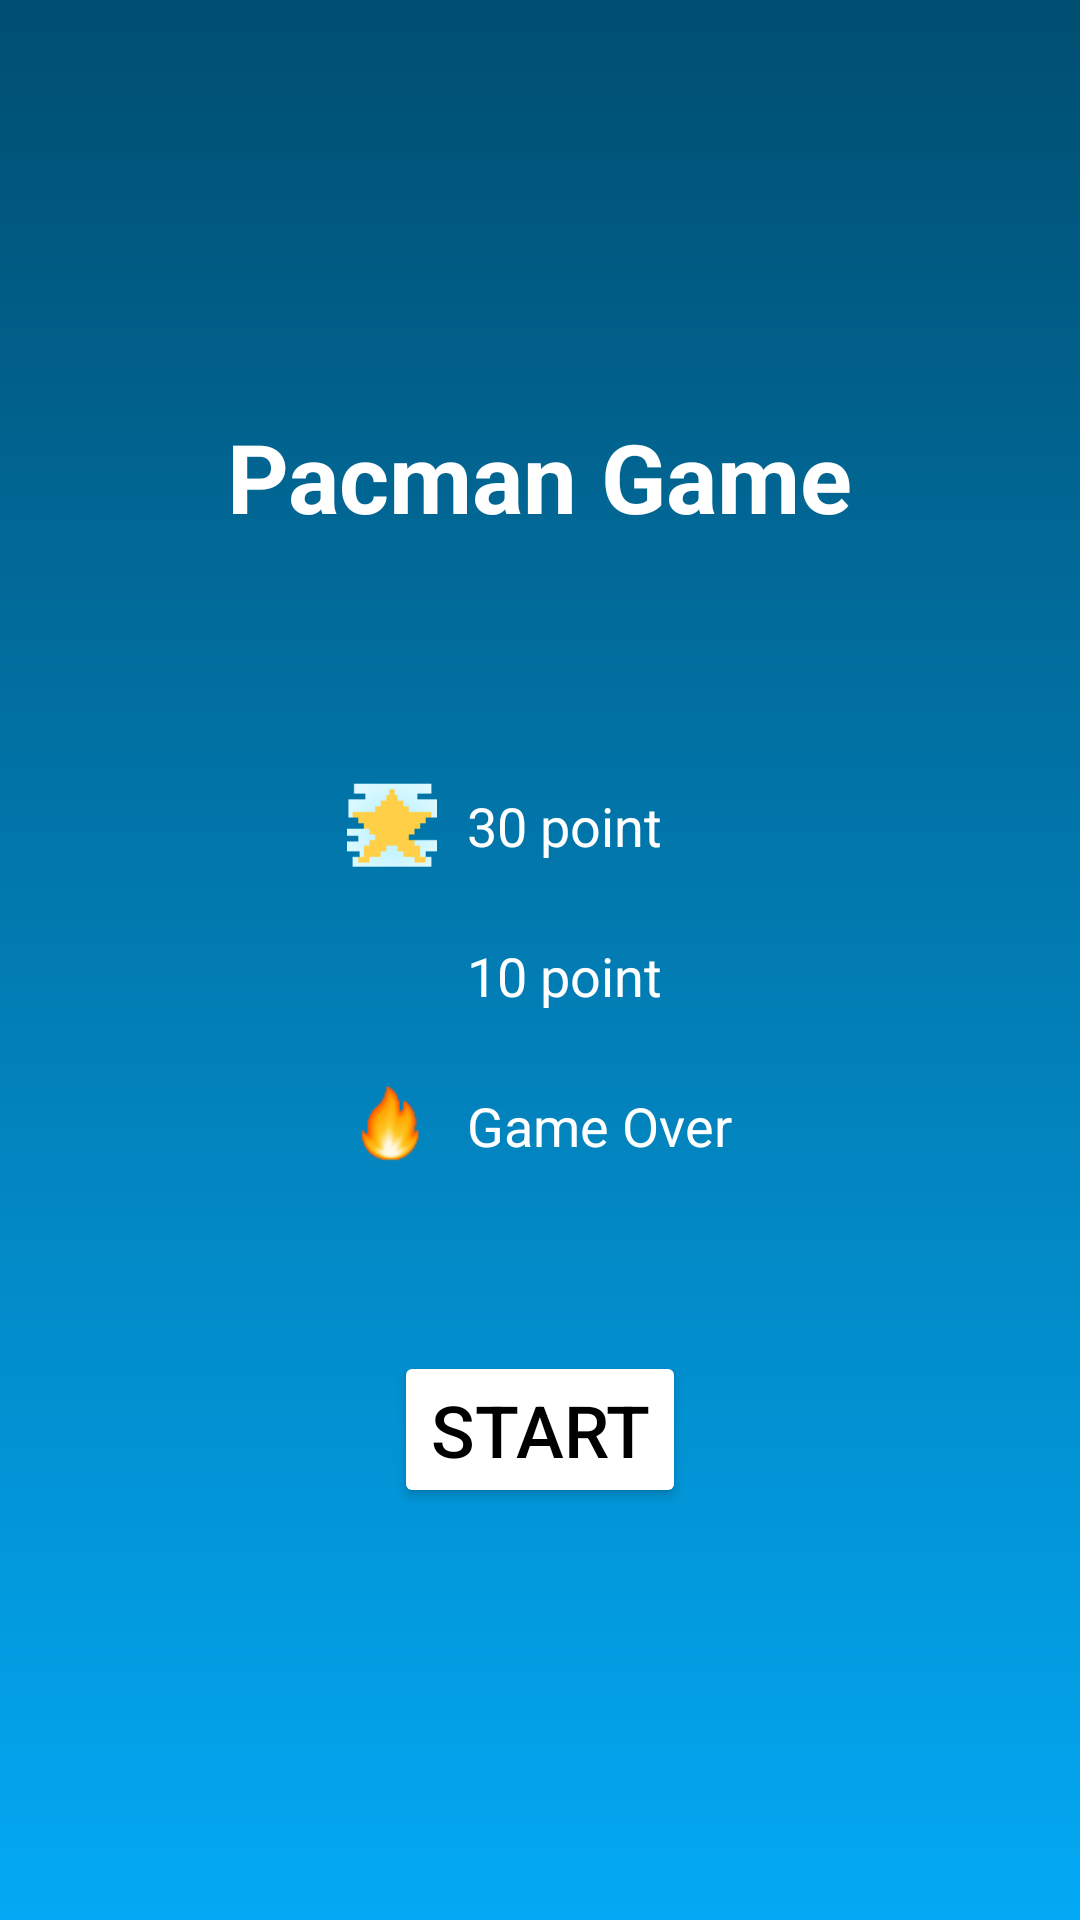

Icons on this 1080 x 1920 Android screen, each with its box as [x1, y1, x2, y2]:
flame: [361, 1086, 419, 1161]
star: [347, 783, 437, 867]
